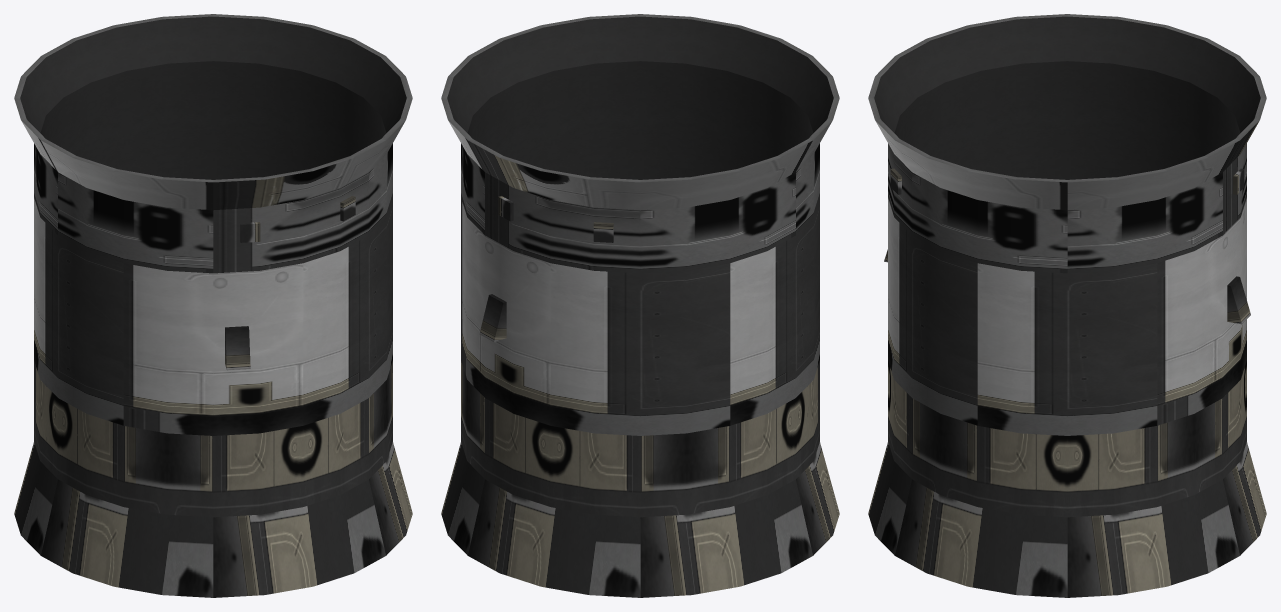
The model's file is interstage_lip.fbx.
The picture shows the model from 3 angles, left to right: view 1: azimuth 30°, elevation 25°; view 2: azimuth 150°, elevation 25°; view 3: azimuth 270°, elevation 25°; orthographic projection.
Parts seen in each view (by area): view 1: mesh; view 2: mesh; view 3: mesh.
Part boxes in pixels (bbox=[...]): mesh: bbox=[14, 14, 412, 597]; mesh: bbox=[441, 14, 839, 597]; mesh: bbox=[868, 14, 1266, 597].
Bounding box in the file's own units: 2.5 × 2.88 × 2.5.
